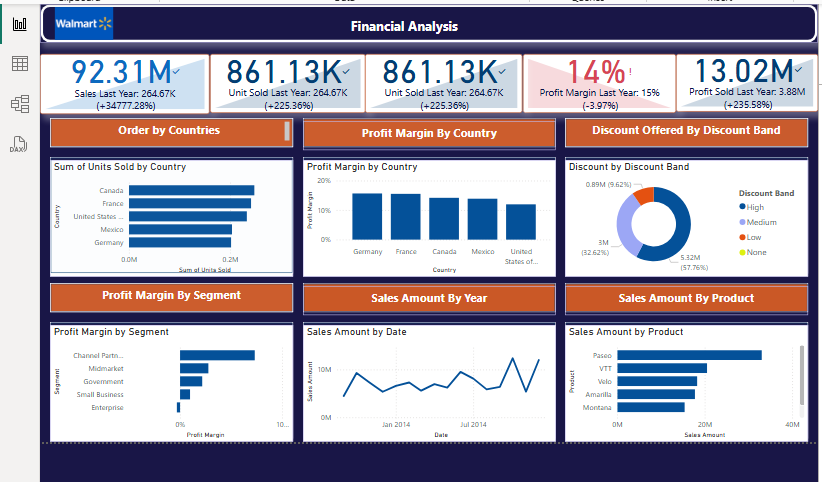

What the dashboard file says about the page in this screenshot:
{"tool":"powerbi","page":{"name":"Dashboard","canvas":[1280,720],"ordinal":1},"visuals":[{"type":"shape","box":[16,252,400,192],"z":0,"group":"g1"},{"type":"kpi","fields":{"Indicator":["Analysis Table.Sales Amount"],"TrendLine":["Date Table.Year"],"Goal":["Analysis Table.Unit Sold Last Year"]},"box":[0,81.5,279.3,98.9],"z":0},{"type":"shape","box":[16,188,400,48],"z":1000,"group":"g1"},{"type":"kpi","fields":{"Indicator":["Analysis Table.Unit Sold"],"TrendLine":["Date Table.Year"],"Goal":["Analysis Table.Unit Sold Last Year"]},"box":[279.3,82.9,256,97.5],"z":1000},{"type":"shape","box":[432,252,416,192],"z":2000,"group":"g1"},{"type":"kpi","fields":{"TrendLine":["Date Table.Year"],"Indicator":["Analysis Table.Profit"],"Goal":["Analysis Table.Profit for Last Year"]},"box":[1045.8,82.9,234.2,94.5],"z":2000},{"type":"shape","box":[432,188,416,48],"z":3000,"group":"g1"},{"type":"kpi","fields":{"TrendLine":["Date Table.Year"],"Indicator":["Analysis Table.Profit Margin"],"Goal":["Analysis Table.Profit Margin Last Year"]},"box":[794.2,81.5,251.6,97.5],"z":3000},{"type":"shape","box":[864,252,400,192],"z":4000,"group":"g1"},{"type":"kpi","fields":{"Indicator":["Analysis Table.Unit Sold"],"TrendLine":["Date Table.Year"],"Goal":["Analysis Table.Unit Sold Last Year"]},"box":[535.3,82.9,258.9,97.5],"z":4000},{"type":"shape","box":[0,0,1280,64],"z":5000},{"type":"shape","box":[864,188,400,48],"z":5000,"group":"g1"},{"type":"clusteredBarChart","fields":{"Y":["Sum(financials.Units Sold)"],"Category":["financials.Country"]},"box":[16,256,400,192],"z":6000},{"type":"shape","box":[16,524,400,192],"z":6000,"group":"g1"},{"type":"group","id":"g1","title":"Group 1","box":[16,188,1248,528],"z":7000},{"type":"shape","box":[16,460,400,48],"z":7000,"group":"g1"},{"type":"shape","box":[432,524,416,192],"z":8000,"group":"g1"},{"type":"clusteredBarChart","fields":{"Y":["Analysis Table.Profit Margin"],"Category":["financials.Segment"]},"box":[16,528,400,192],"z":8000},{"type":"textbox","box":[16,188,400,48],"z":9000,"group":"g1"},{"type":"lineChart","fields":{"Y":["Analysis Table.Sales Amount"],"Category":["financials.Date"]},"box":[432,528,416,192],"z":9000},{"type":"shape","box":[432,460,416,48],"z":10000,"group":"g1"},{"type":"clusteredBarChart","fields":{"Y":["Analysis Table.Sales Amount"],"Category":["financials.Product"]},"box":[864,528,400,192],"z":10000},{"type":"donutChart","fields":{"Y":["Analysis Table.Discount"],"Category":["financials.Discount Band"]},"box":[864,256,400,192],"z":11000},{"type":"shape","box":[864,524,400,192],"z":11000,"group":"g1"},{"type":"textbox","box":[432,192,416,48],"z":12000},{"type":"shape","box":[864,460,400,48],"z":12000,"group":"g1"},{"type":"textbox","box":[432,464,416,48],"z":13000},{"type":"textbox","box":[16,460,400,48],"z":14000,"group":"g1"},{"type":"textbox","box":[863.8,463.8,400,48.8],"z":14000},{"type":"textbox","box":[864,188,400,48],"z":15000,"group":"g1"},{"type":"textbox","box":[384,16,432,48],"z":15000},{"type":"image","box":[16,0,112,64],"z":16000},{"type":"clusteredColumnChart","fields":{"Y":["Analysis Table.Profit Margin"],"Category":["financials.Country"]},"box":[432,256,416,192],"z":17000}]}

Visuals, with their boxes in screenshot pixels (x1, y1, x2, y2):
shape: {"left": 46, "top": 156, "right": 290, "bottom": 273}
kpi - Analysis Table.Sales Amount x Date Table.Year: {"left": 36, "top": 52, "right": 207, "bottom": 112}
shape: {"left": 46, "top": 117, "right": 290, "bottom": 146}
kpi - Analysis Table.Unit Sold x Date Table.Year: {"left": 207, "top": 53, "right": 363, "bottom": 112}
shape: {"left": 300, "top": 156, "right": 554, "bottom": 273}
kpi - Date Table.Year x Analysis Table.Profit: {"left": 675, "top": 53, "right": 818, "bottom": 110}
shape: {"left": 300, "top": 117, "right": 554, "bottom": 146}
kpi - Date Table.Year x Analysis Table.Profit Margin: {"left": 522, "top": 52, "right": 675, "bottom": 111}
shape: {"left": 564, "top": 156, "right": 809, "bottom": 273}
kpi - Analysis Table.Unit Sold x Date Table.Year: {"left": 363, "top": 53, "right": 522, "bottom": 112}
shape: {"left": 36, "top": 2, "right": 818, "bottom": 41}
shape: {"left": 564, "top": 117, "right": 809, "bottom": 146}
clusteredBarChart - Sum(financials.Units Sold) x financials.Country: {"left": 46, "top": 159, "right": 290, "bottom": 276}
shape: {"left": 46, "top": 322, "right": 290, "bottom": 440}
"Group 1" group: {"left": 46, "top": 117, "right": 809, "bottom": 440}
shape: {"left": 46, "top": 283, "right": 290, "bottom": 313}
shape: {"left": 300, "top": 322, "right": 554, "bottom": 440}
clusteredBarChart - Analysis Table.Profit Margin x financials.Segment: {"left": 46, "top": 325, "right": 290, "bottom": 442}
textbox: {"left": 46, "top": 117, "right": 290, "bottom": 146}
lineChart - Analysis Table.Sales Amount x financials.Date: {"left": 300, "top": 325, "right": 554, "bottom": 442}
shape: {"left": 300, "top": 283, "right": 554, "bottom": 313}
clusteredBarChart - Analysis Table.Sales Amount x financials.Product: {"left": 564, "top": 325, "right": 809, "bottom": 442}
donutChart - Analysis Table.Discount x financials.Discount Band: {"left": 564, "top": 159, "right": 809, "bottom": 276}
shape: {"left": 564, "top": 322, "right": 809, "bottom": 440}
textbox: {"left": 300, "top": 119, "right": 554, "bottom": 149}
shape: {"left": 564, "top": 283, "right": 809, "bottom": 313}
textbox: {"left": 300, "top": 286, "right": 554, "bottom": 315}
textbox: {"left": 46, "top": 283, "right": 290, "bottom": 313}
textbox: {"left": 564, "top": 286, "right": 808, "bottom": 315}
textbox: {"left": 564, "top": 117, "right": 809, "bottom": 146}
textbox: {"left": 271, "top": 12, "right": 535, "bottom": 41}
image: {"left": 46, "top": 2, "right": 114, "bottom": 41}
clusteredColumnChart - Analysis Table.Profit Margin x financials.Country: {"left": 300, "top": 159, "right": 554, "bottom": 276}
